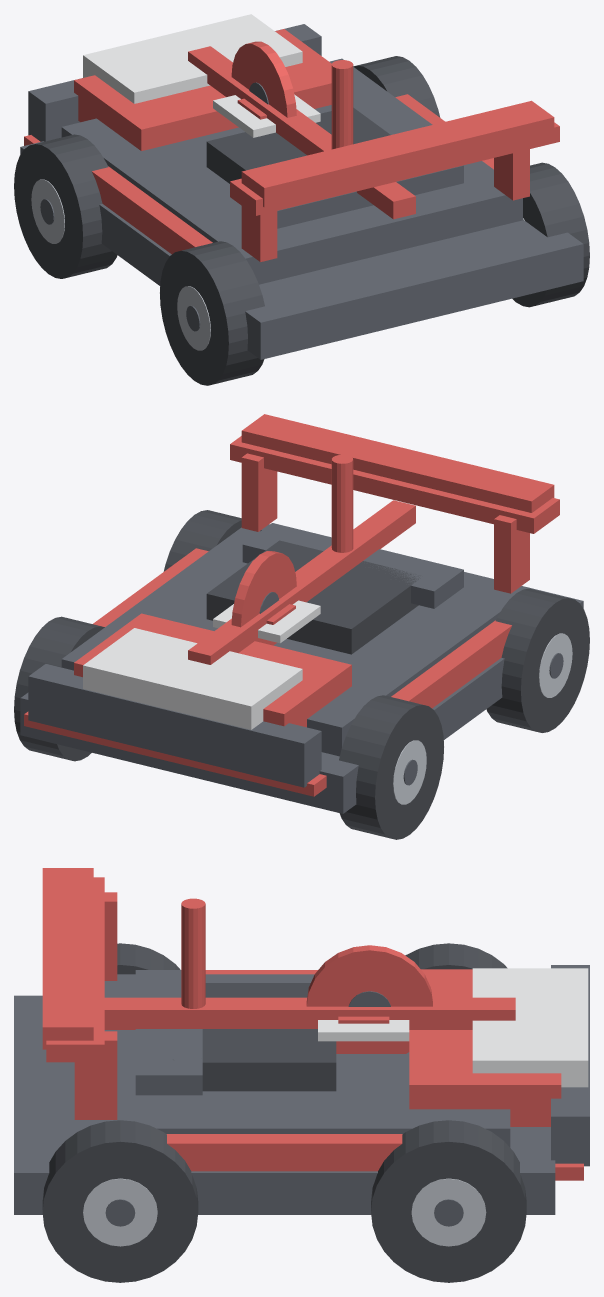
File: overdrive.glb
The picture shows the model from 3 angles, top to bottom: view 1: azimuth 30°, elevation 25°; view 2: azimuth 150°, elevation 25°; view 3: azimuth 270°, elevation 25°; orthographic projection. The views are drawn at different scales.
Visible parts, largest first — view 1: part_0, part_1, part_32, part_19, part_16, part_2, part_3, part_31, part_25, part_4, part_9, part_33 (+11 smaller); view 2: part_1, part_33, part_3, part_32, part_16, part_19, part_4, part_0, part_31, part_2, part_11, part_5 (+12 smaller); view 3: part_0, part_1, part_25, part_22, part_3, part_31, part_2, part_4, part_32, part_10, part_8, part_5 (+13 smaller).
Boxes of the visible parts, box(x1,y1,x2,y2) form: part_0: box(20, 141, 583, 359); part_1: box(61, 58, 522, 284); part_32: box(241, 100, 554, 207); part_19: box(160, 241, 264, 385); part_16: box(14, 134, 117, 278); part_2: box(74, 29, 331, 150); part_3: box(83, 14, 302, 103); part_31: box(188, 46, 415, 219); part_25: box(512, 162, 589, 307); part_4: box(206, 107, 390, 183); part_9: box(92, 166, 212, 254); part_33: box(28, 24, 321, 141); part_1: box(61, 527, 515, 756); part_33: box(28, 664, 321, 787); part_3: box(83, 628, 302, 729); part_32: box(241, 414, 554, 512); part_16: box(339, 695, 443, 839); part_19: box(486, 588, 589, 732); part_4: box(206, 540, 420, 654); part_0: box(20, 524, 583, 813); part_31: box(188, 500, 415, 664); part_2: box(74, 613, 351, 727); part_11: box(230, 436, 559, 533); part_5: box(242, 523, 463, 608); part_0: box(14, 995, 555, 1214); part_1: box(102, 974, 510, 1147); part_25: box(42, 1120, 198, 1282); part_22: box(371, 1120, 526, 1282); part_3: box(472, 968, 588, 1087); part_31: box(104, 997, 515, 1029); part_2: box(409, 969, 561, 1126); part_4: box(173, 983, 336, 1091); part_32: box(42, 868, 93, 1049); part_10: box(166, 1134, 402, 1171); part_8: box(306, 945, 432, 1053); part_5: box(135, 970, 202, 1095).
Size of the model in its own units: 3.89 by 2.54 by 4.73.
